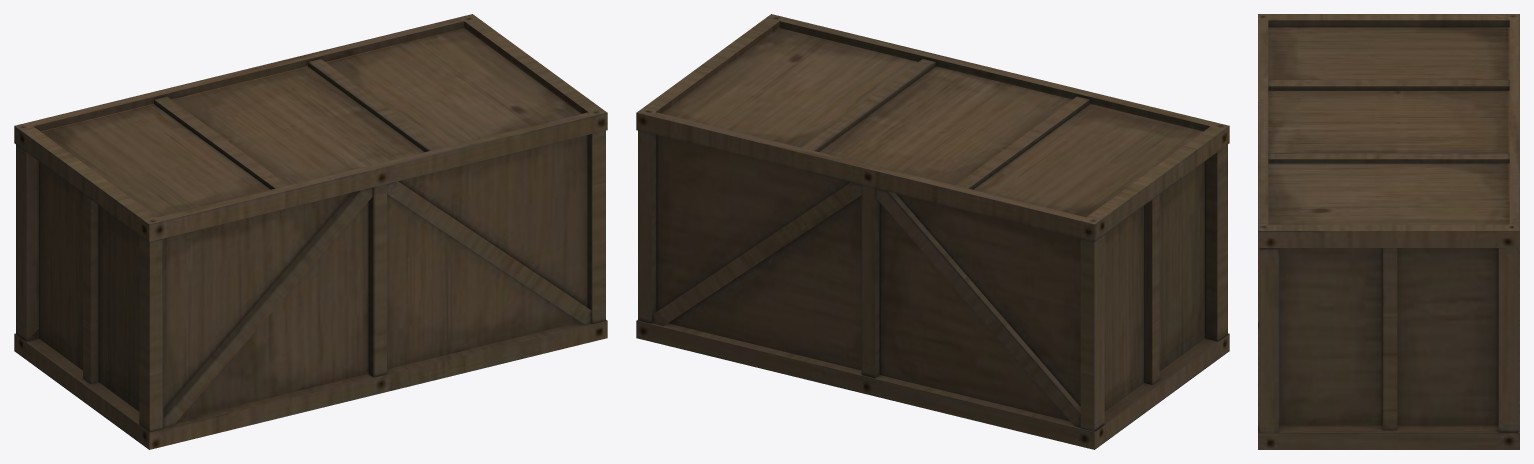
The model's file is crate_long.glb.
3 renders of one model, left to right at view 1: azimuth 30°, elevation 25°; view 2: azimuth 150°, elevation 25°; view 3: azimuth 270°, elevation 25°, orthographic. The views are drawn at different scales.
Parts seen in each view (by area): view 1: Crate02_Cube; view 2: Crate02_Cube; view 3: Crate02_Cube.
Part boxes in pixels (x1=…): Crate02_Cube: x1=14, y1=14, x2=607, y2=449; Crate02_Cube: x1=636, y1=14, x2=1229, y2=449; Crate02_Cube: x1=1258, y1=14, x2=1519, y2=449.
Size of the model in its own units: 1 by 0.4702 by 0.5099.
1 material, 1 textured.
